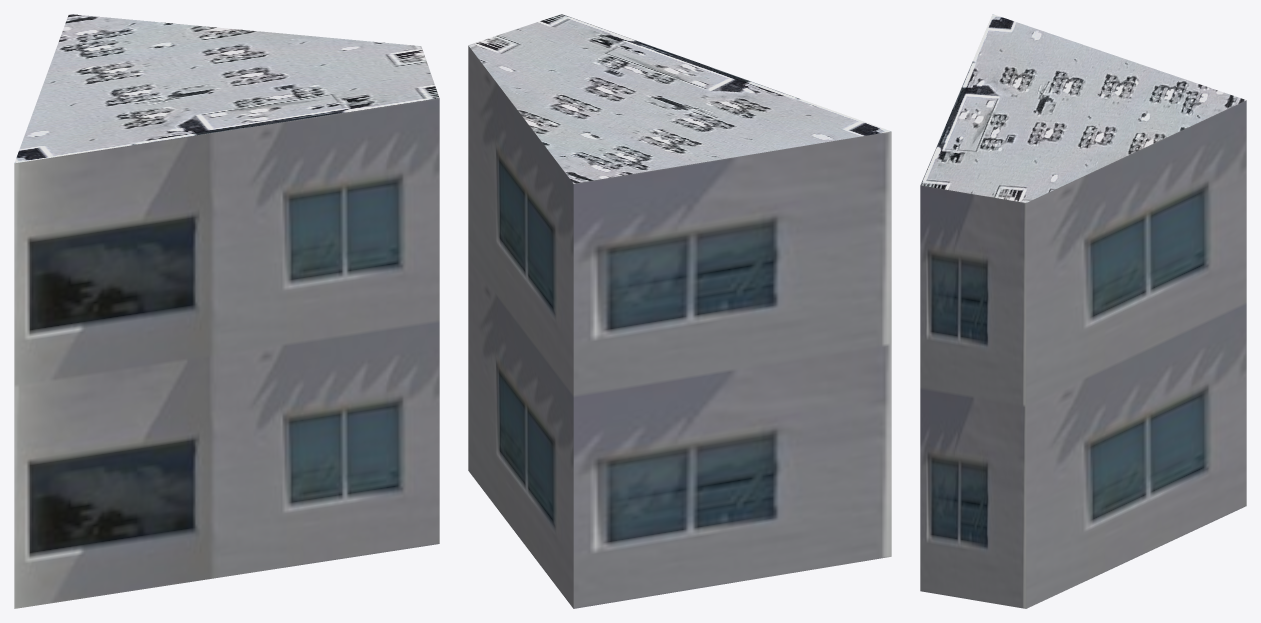
Rendered from ResTex__5068.fbx.
3 views of the same model, side by side, from view 1: azimuth 30°, elevation 25°; view 2: azimuth 150°, elevation 25°; view 3: azimuth 270°, elevation 25° (orthographic). The views are drawn at different scales.
Parts seen in each view (by area): view 1: CityEngineMaterial_10_m, CityEngineMaterial_8_m; view 2: CityEngineMaterial_10_m, CityEngineMaterial_8_m; view 3: CityEngineMaterial_10_m, CityEngineMaterial_8_m.
Boxes of the visible parts, x1,y1,x2,y2 form: CityEngineMaterial_10_m: (14,98,439,608); CityEngineMaterial_8_m: (14,14,439,163); CityEngineMaterial_10_m: (468,46,891,608); CityEngineMaterial_8_m: (468,14,891,183); CityEngineMaterial_10_m: (920,100,1246,608); CityEngineMaterial_8_m: (920,14,1246,202).
Size of the model in its own units: 6 by 6 by 4.37.
Materials: 2 (2 with a texture image).
